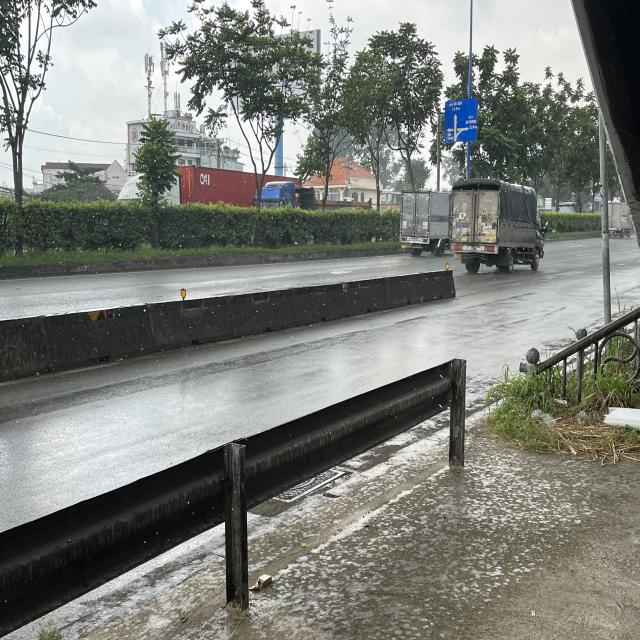truck: (451, 182, 546, 275), (402, 189, 452, 257)
